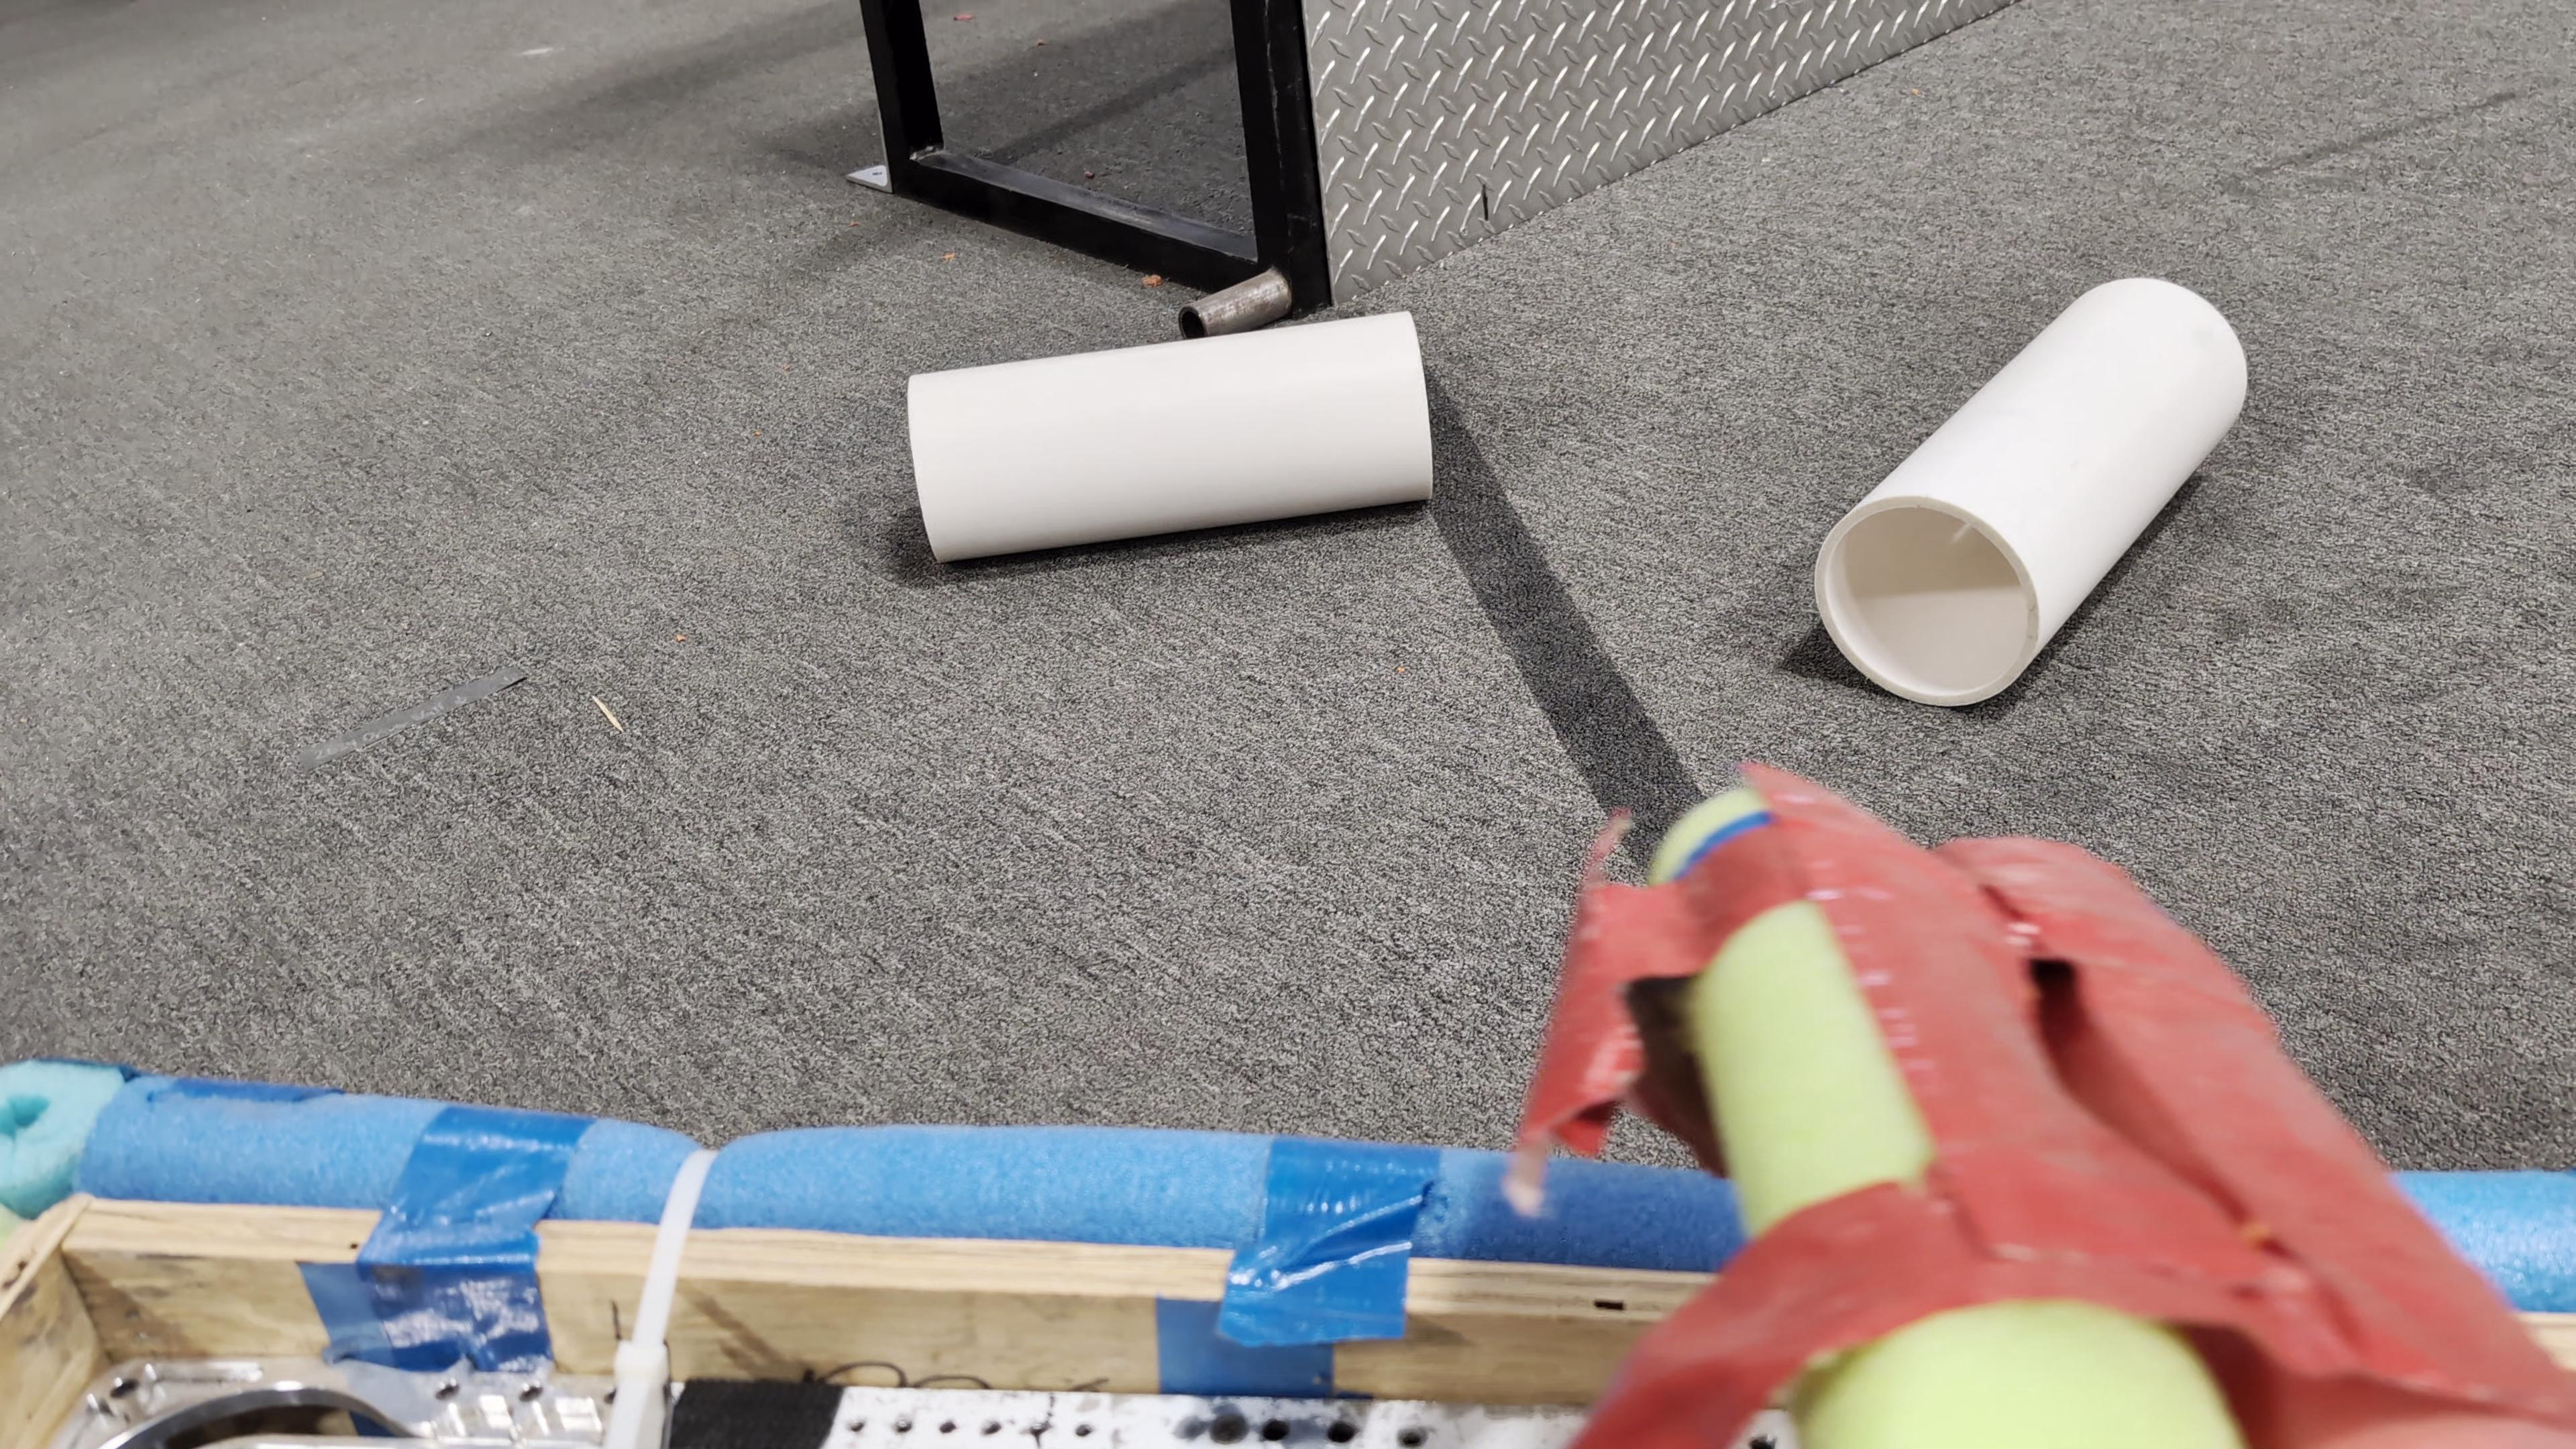coral: (1815, 278, 2247, 706), (908, 310, 1431, 564)
